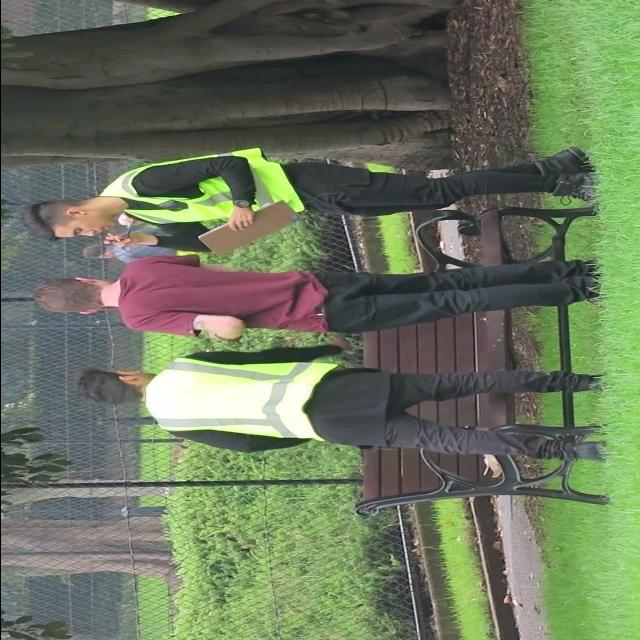jacket: (146, 353, 346, 444), (103, 151, 296, 233)
